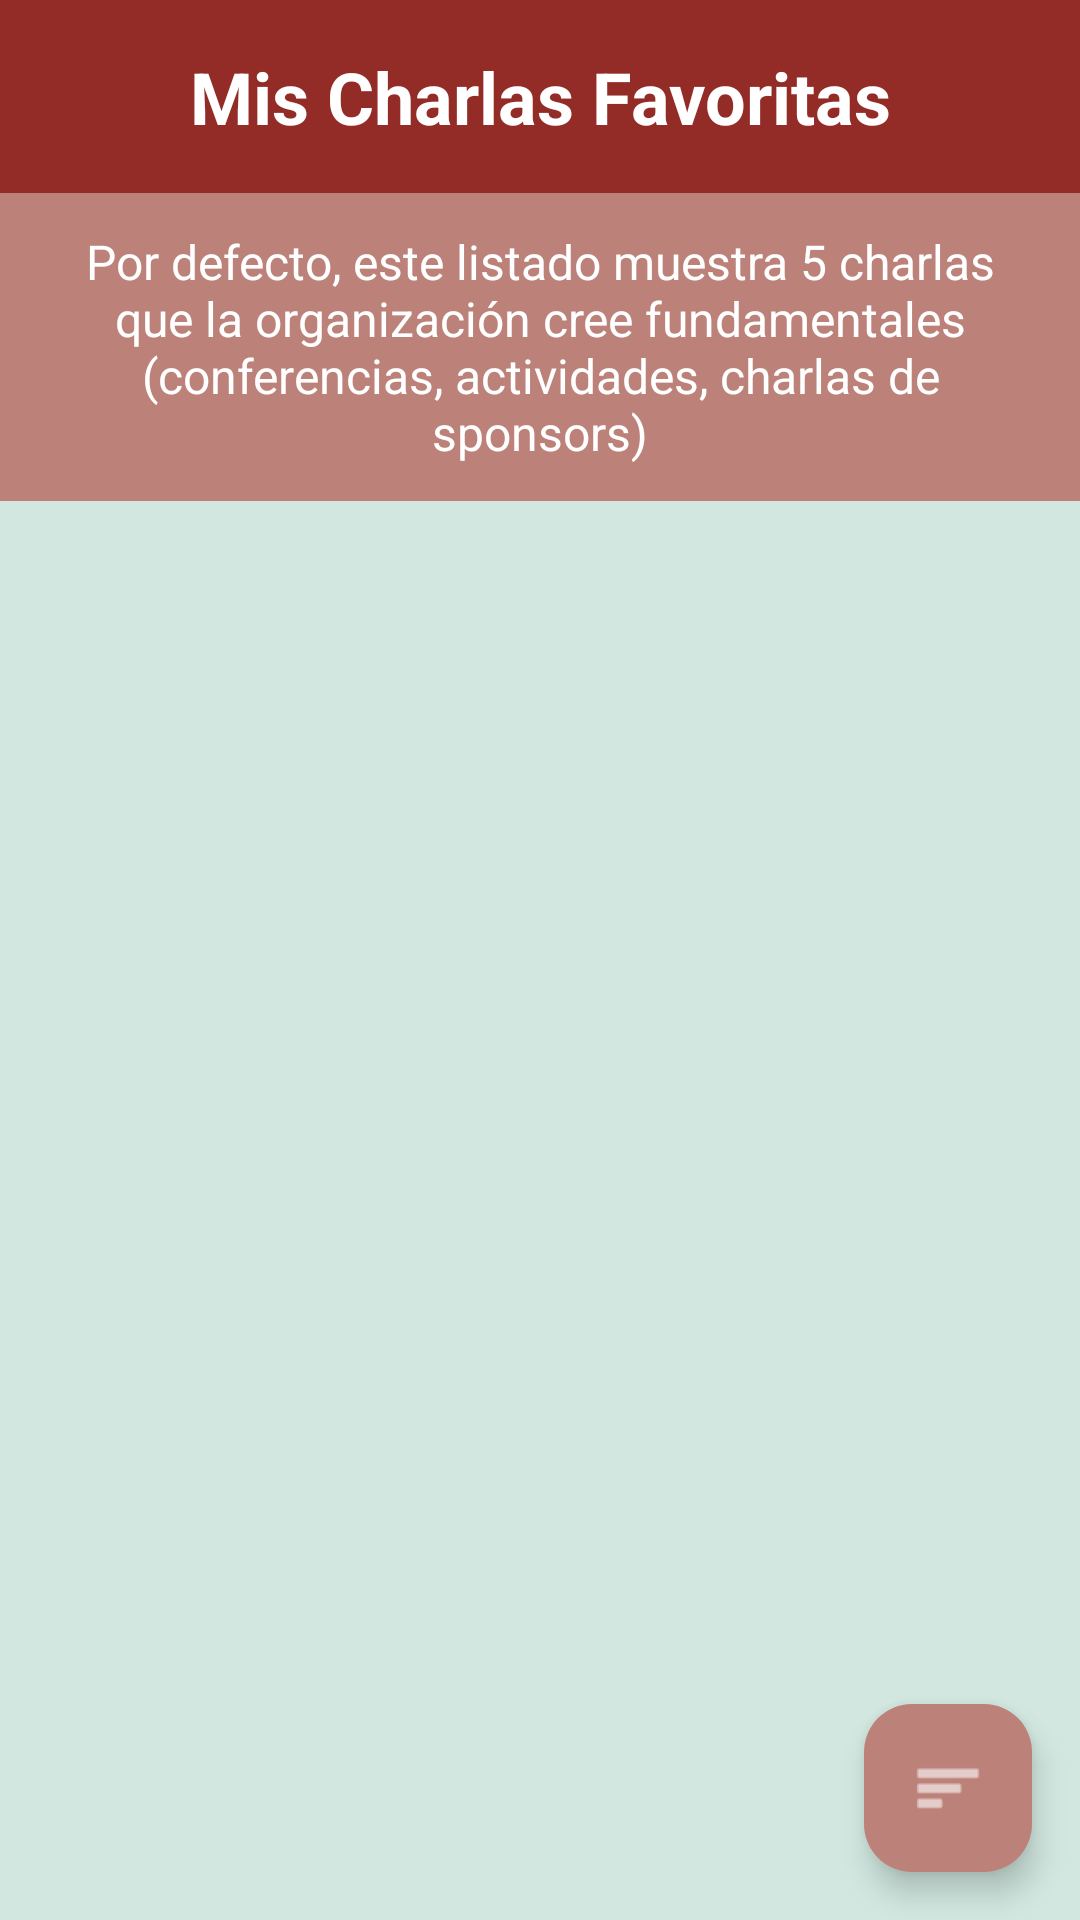

Screen size 1080px×1920px. Icon name, then its center in pixels as point (x, y):
Filtrar charlas: point (948, 1788)
